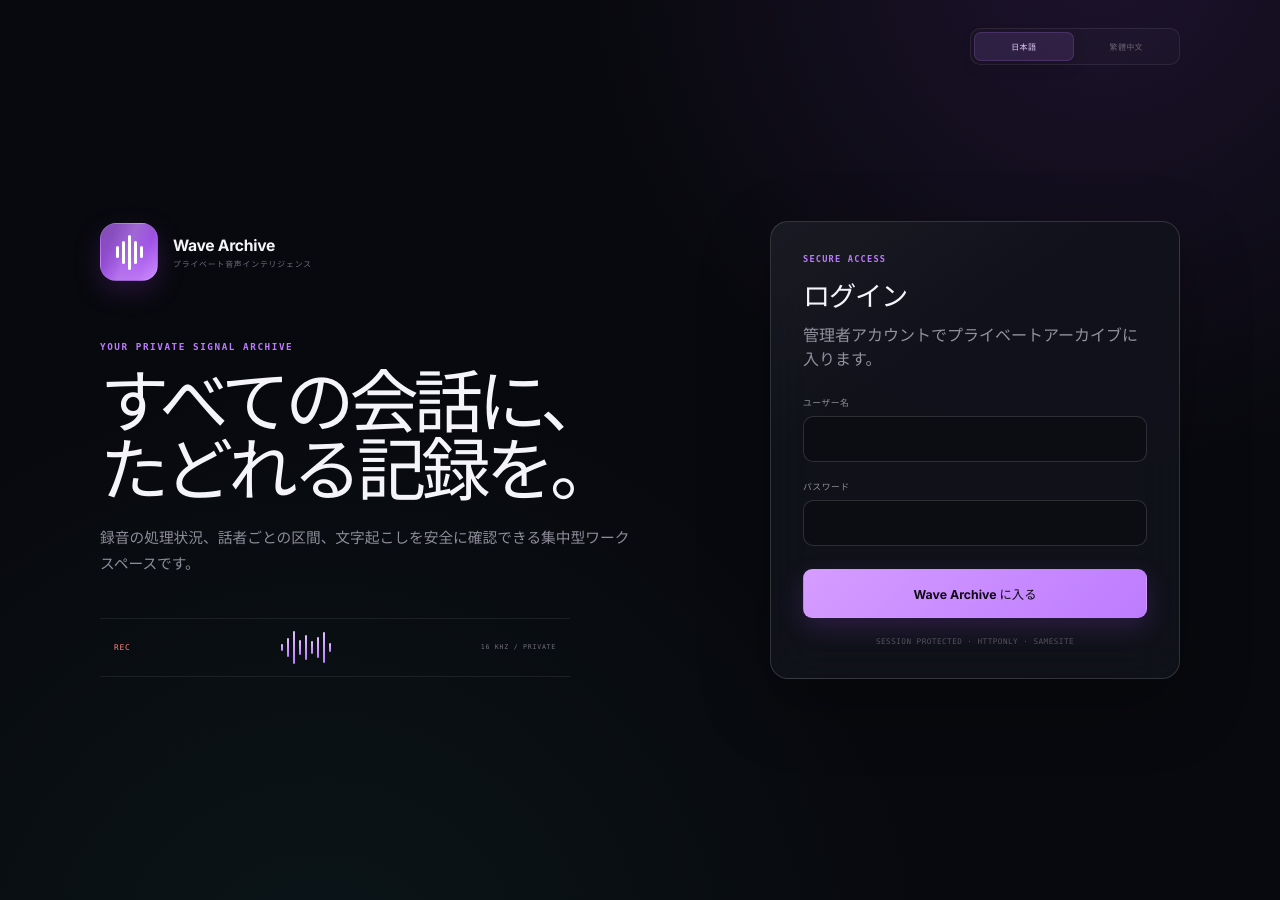
Test: application routes › uses Japanese by default and switches to Hong Kong Traditional Chinese
Expected: the heading "ログイン" is shown, [803,281,907,312]
Click the button "繁體中文".
click(1126, 46)  # box [1076,32,1176,61]
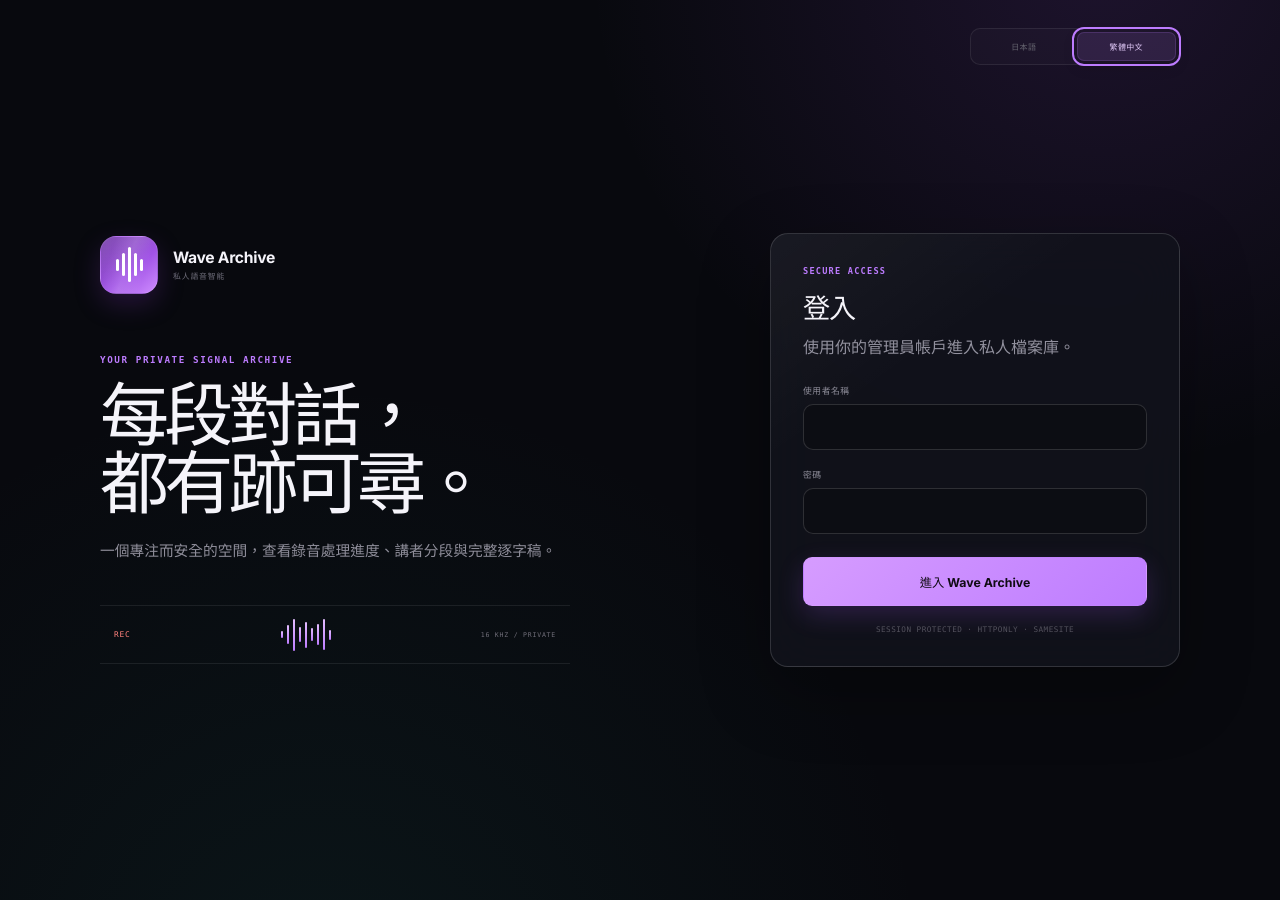
Now the heading "登入" is shown, box [803,293,855,324]
